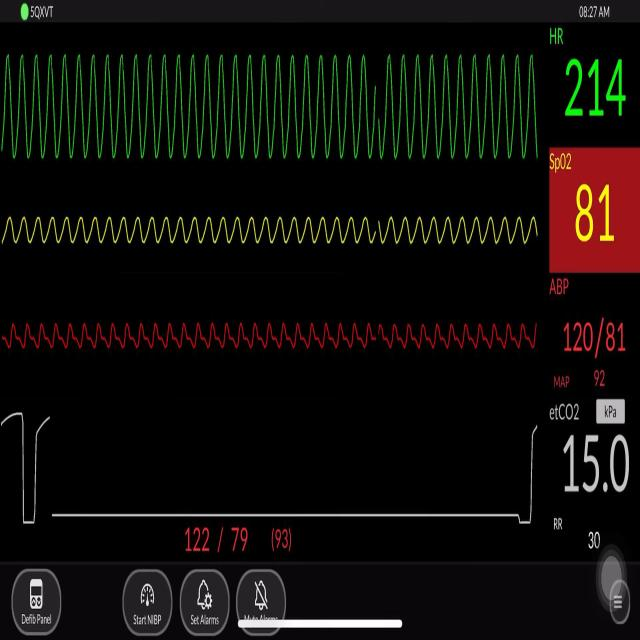danger: (6, 42, 541, 170)
